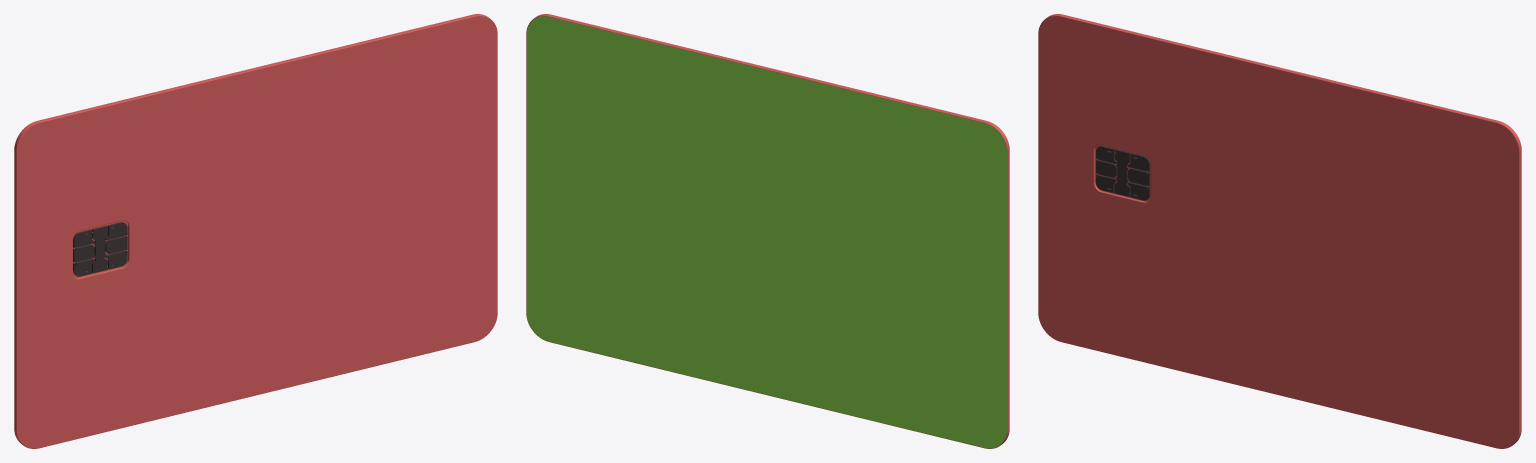
The model's file is card_chip2.glb.
The picture shows the model from 3 angles, left to right: view 1: azimuth 30°, elevation 25°; view 2: azimuth 150°, elevation 25°; view 3: azimuth 330°, elevation 25°; orthographic projection.
Parts seen in each view (by area): view 1: card_chip_extrude_2, Extruded.015; view 2: card_chip_extrude_2; view 3: card_chip_extrude_2, Extruded.015.
Part boxes in pixels (box(x1,y1,x2,y2)): card_chip_extrude_2: box(14, 14, 497, 448); Extruded.015: box(73, 222, 127, 276); card_chip_extrude_2: box(526, 14, 1009, 448); card_chip_extrude_2: box(1038, 14, 1521, 448); Extruded.015: box(1096, 145, 1150, 200).
Size of the model in its own units: 8.5 by 5.5 by 0.0761.
